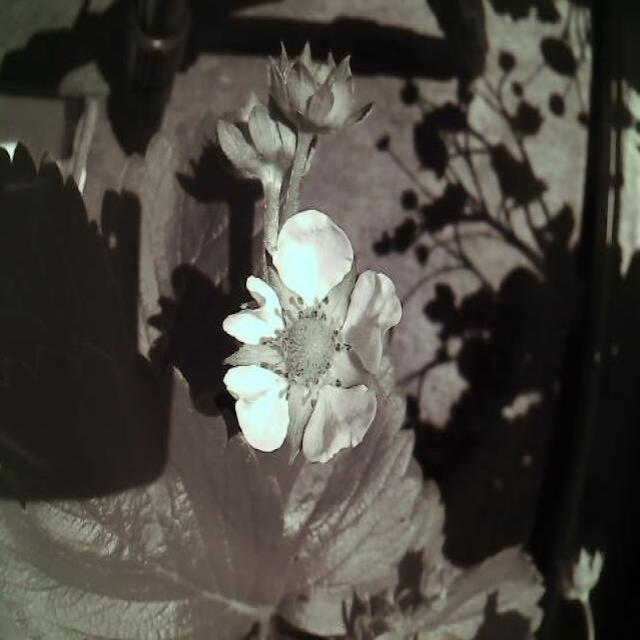flower: (226, 203, 407, 467)
